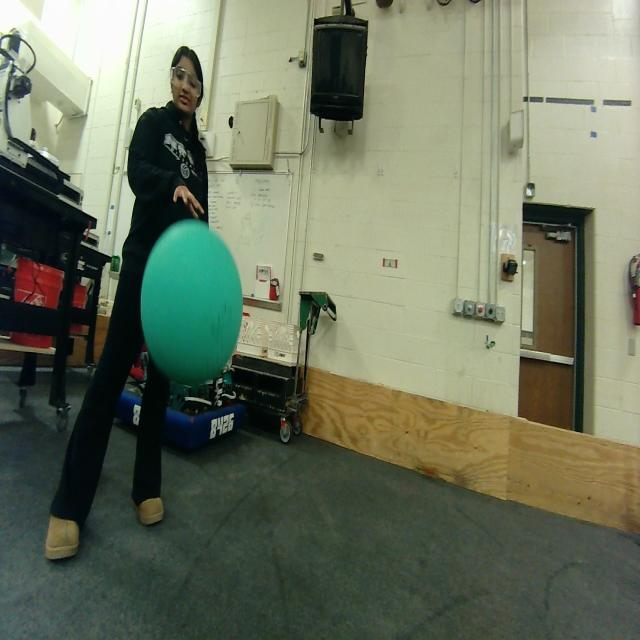algae: (137, 214, 245, 394)
